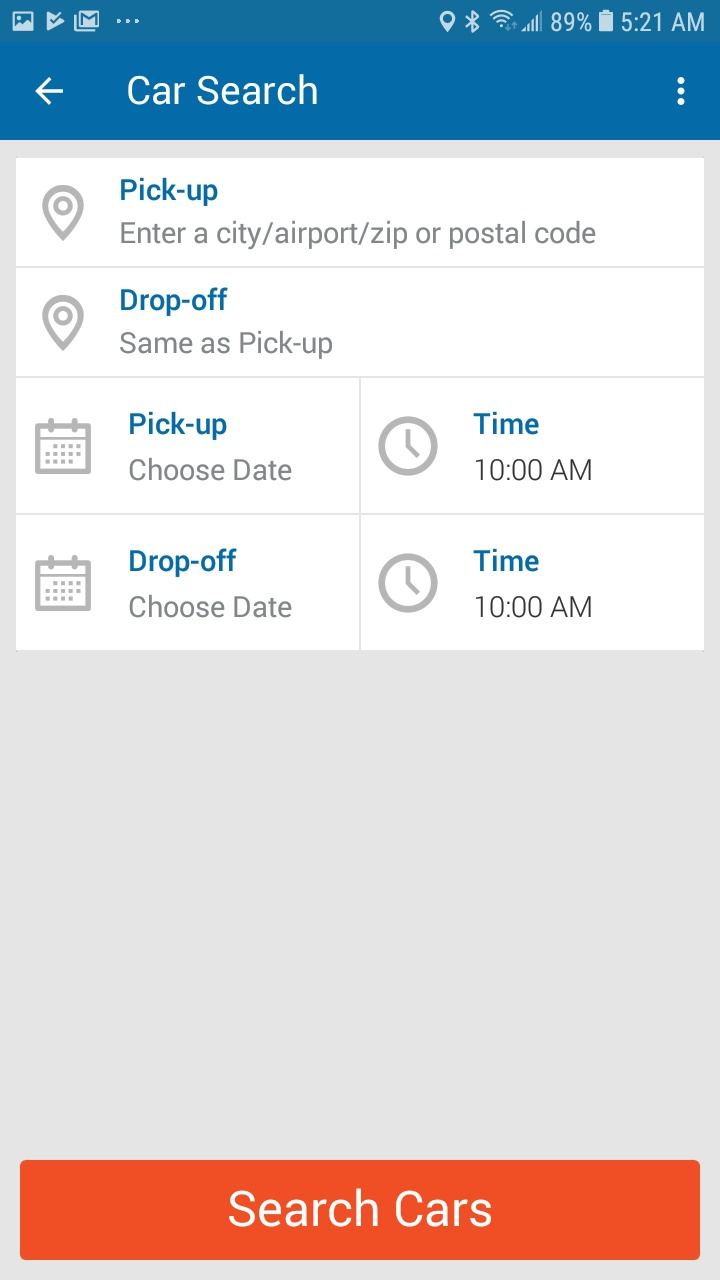Icon: (378, 553, 439, 614), (378, 416, 439, 477), (35, 417, 93, 475), (35, 554, 93, 612), (42, 295, 86, 352), (42, 185, 85, 242), (35, 77, 65, 107), (676, 76, 685, 105)
Text: (121, 220, 596, 251), (120, 330, 333, 360), (128, 74, 319, 107), (130, 457, 293, 482), (130, 595, 293, 619), (121, 286, 229, 317), (130, 547, 238, 578), (121, 178, 219, 208), (130, 411, 228, 441), (475, 595, 592, 619), (476, 458, 592, 482), (473, 411, 540, 436), (473, 548, 540, 573)
TextButton: (21, 1160, 701, 1261)
UpperTaskBar: (1, 1, 720, 43)
